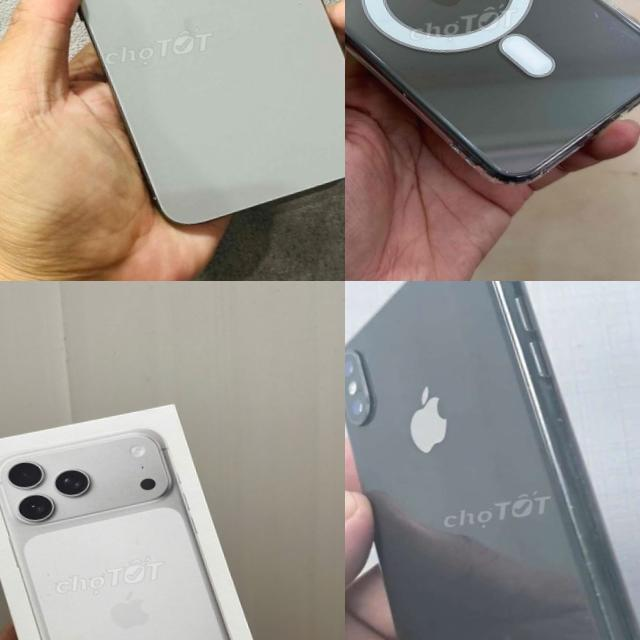gen_11: (345, 0, 640, 223)
gen_15: (19, 0, 345, 238)
gen_17: (0, 409, 261, 640)
gen_x_xs: (345, 281, 640, 640)
scratch: (556, 496, 617, 622), (557, 438, 584, 459), (548, 411, 572, 428), (628, 624, 640, 640)
